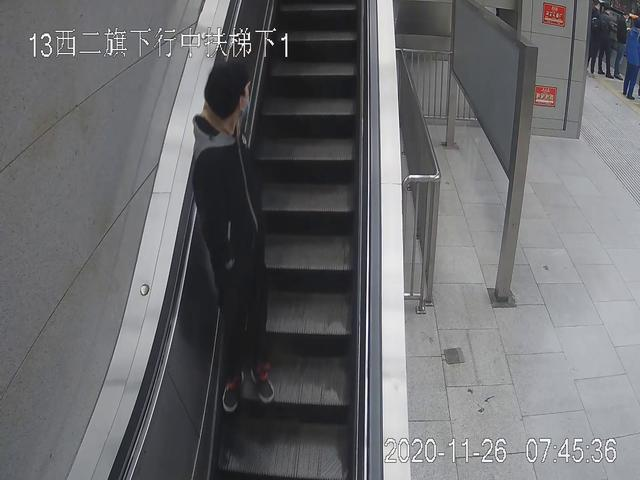person: (193, 59, 276, 411), (597, 7, 618, 78), (623, 21, 640, 98)
